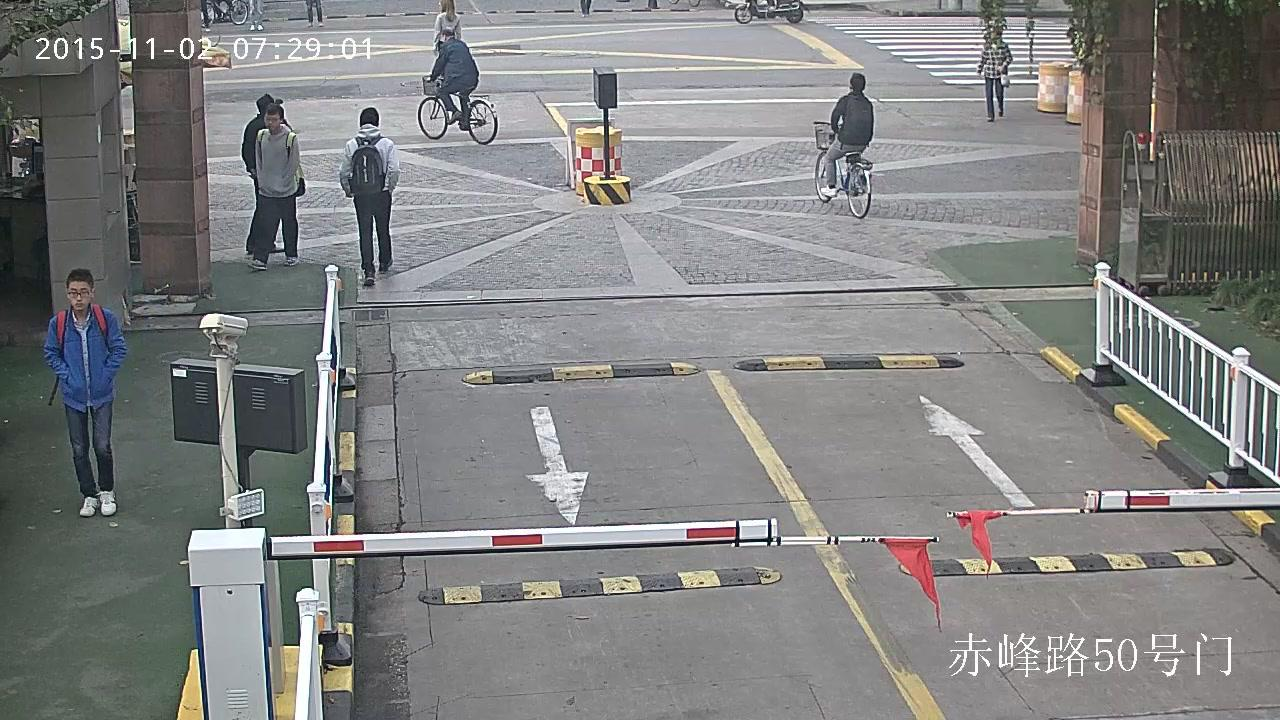face: (68, 282, 89, 309), (263, 111, 281, 131), (990, 27, 996, 38), (437, 0, 442, 12), (439, 32, 444, 42), (848, 78, 851, 88)
